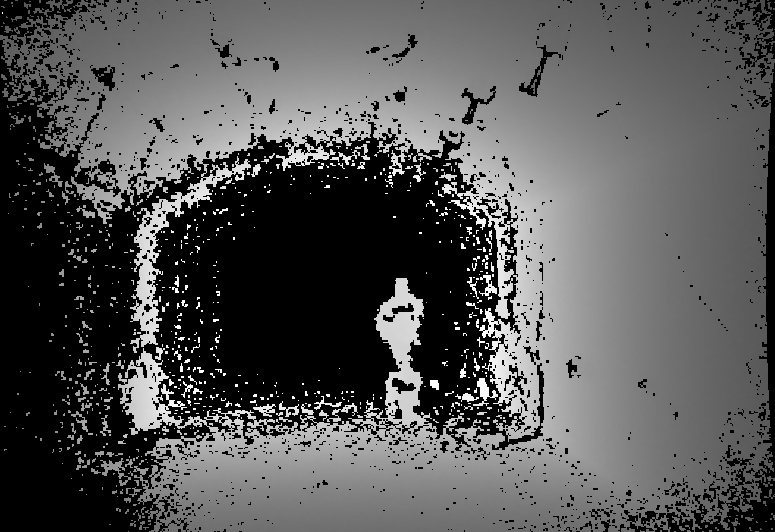person: (375, 276, 426, 426)
